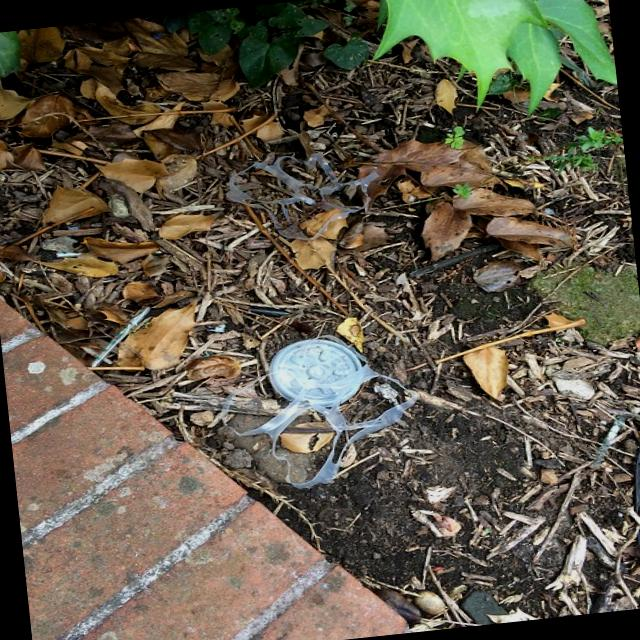Recycle: (259, 325, 372, 415)
